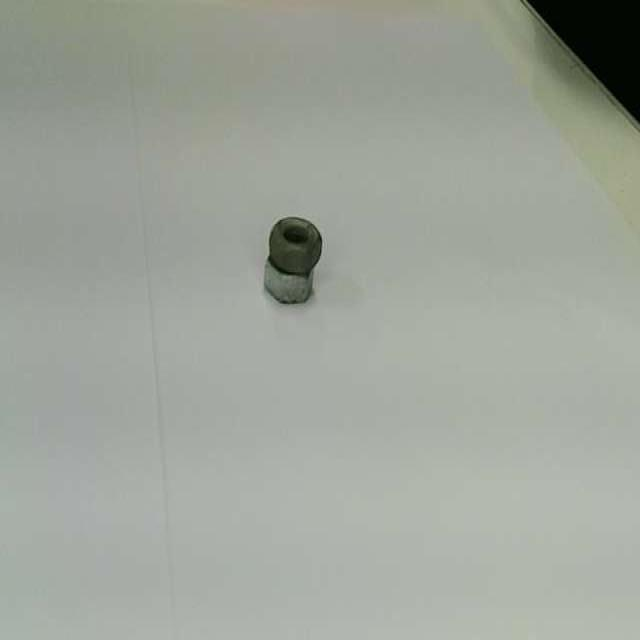Porca: (269, 219, 321, 273), (264, 257, 312, 303)
